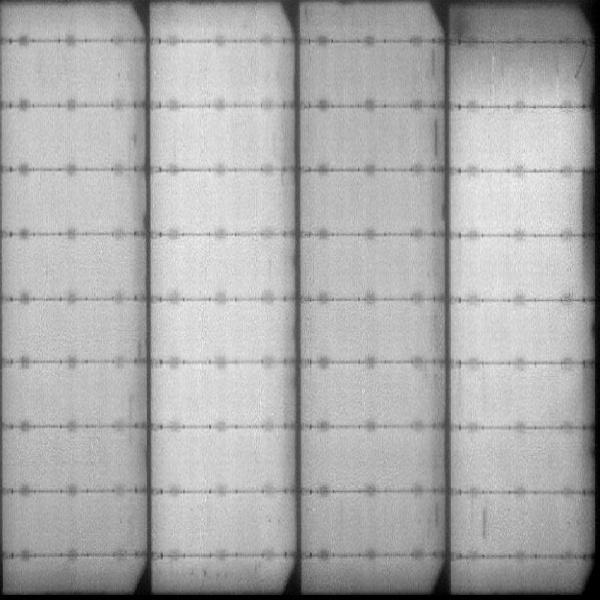black_border: (574, 166, 598, 279)
scratch: (568, 45, 591, 82), (432, 111, 442, 163), (428, 46, 440, 87)
